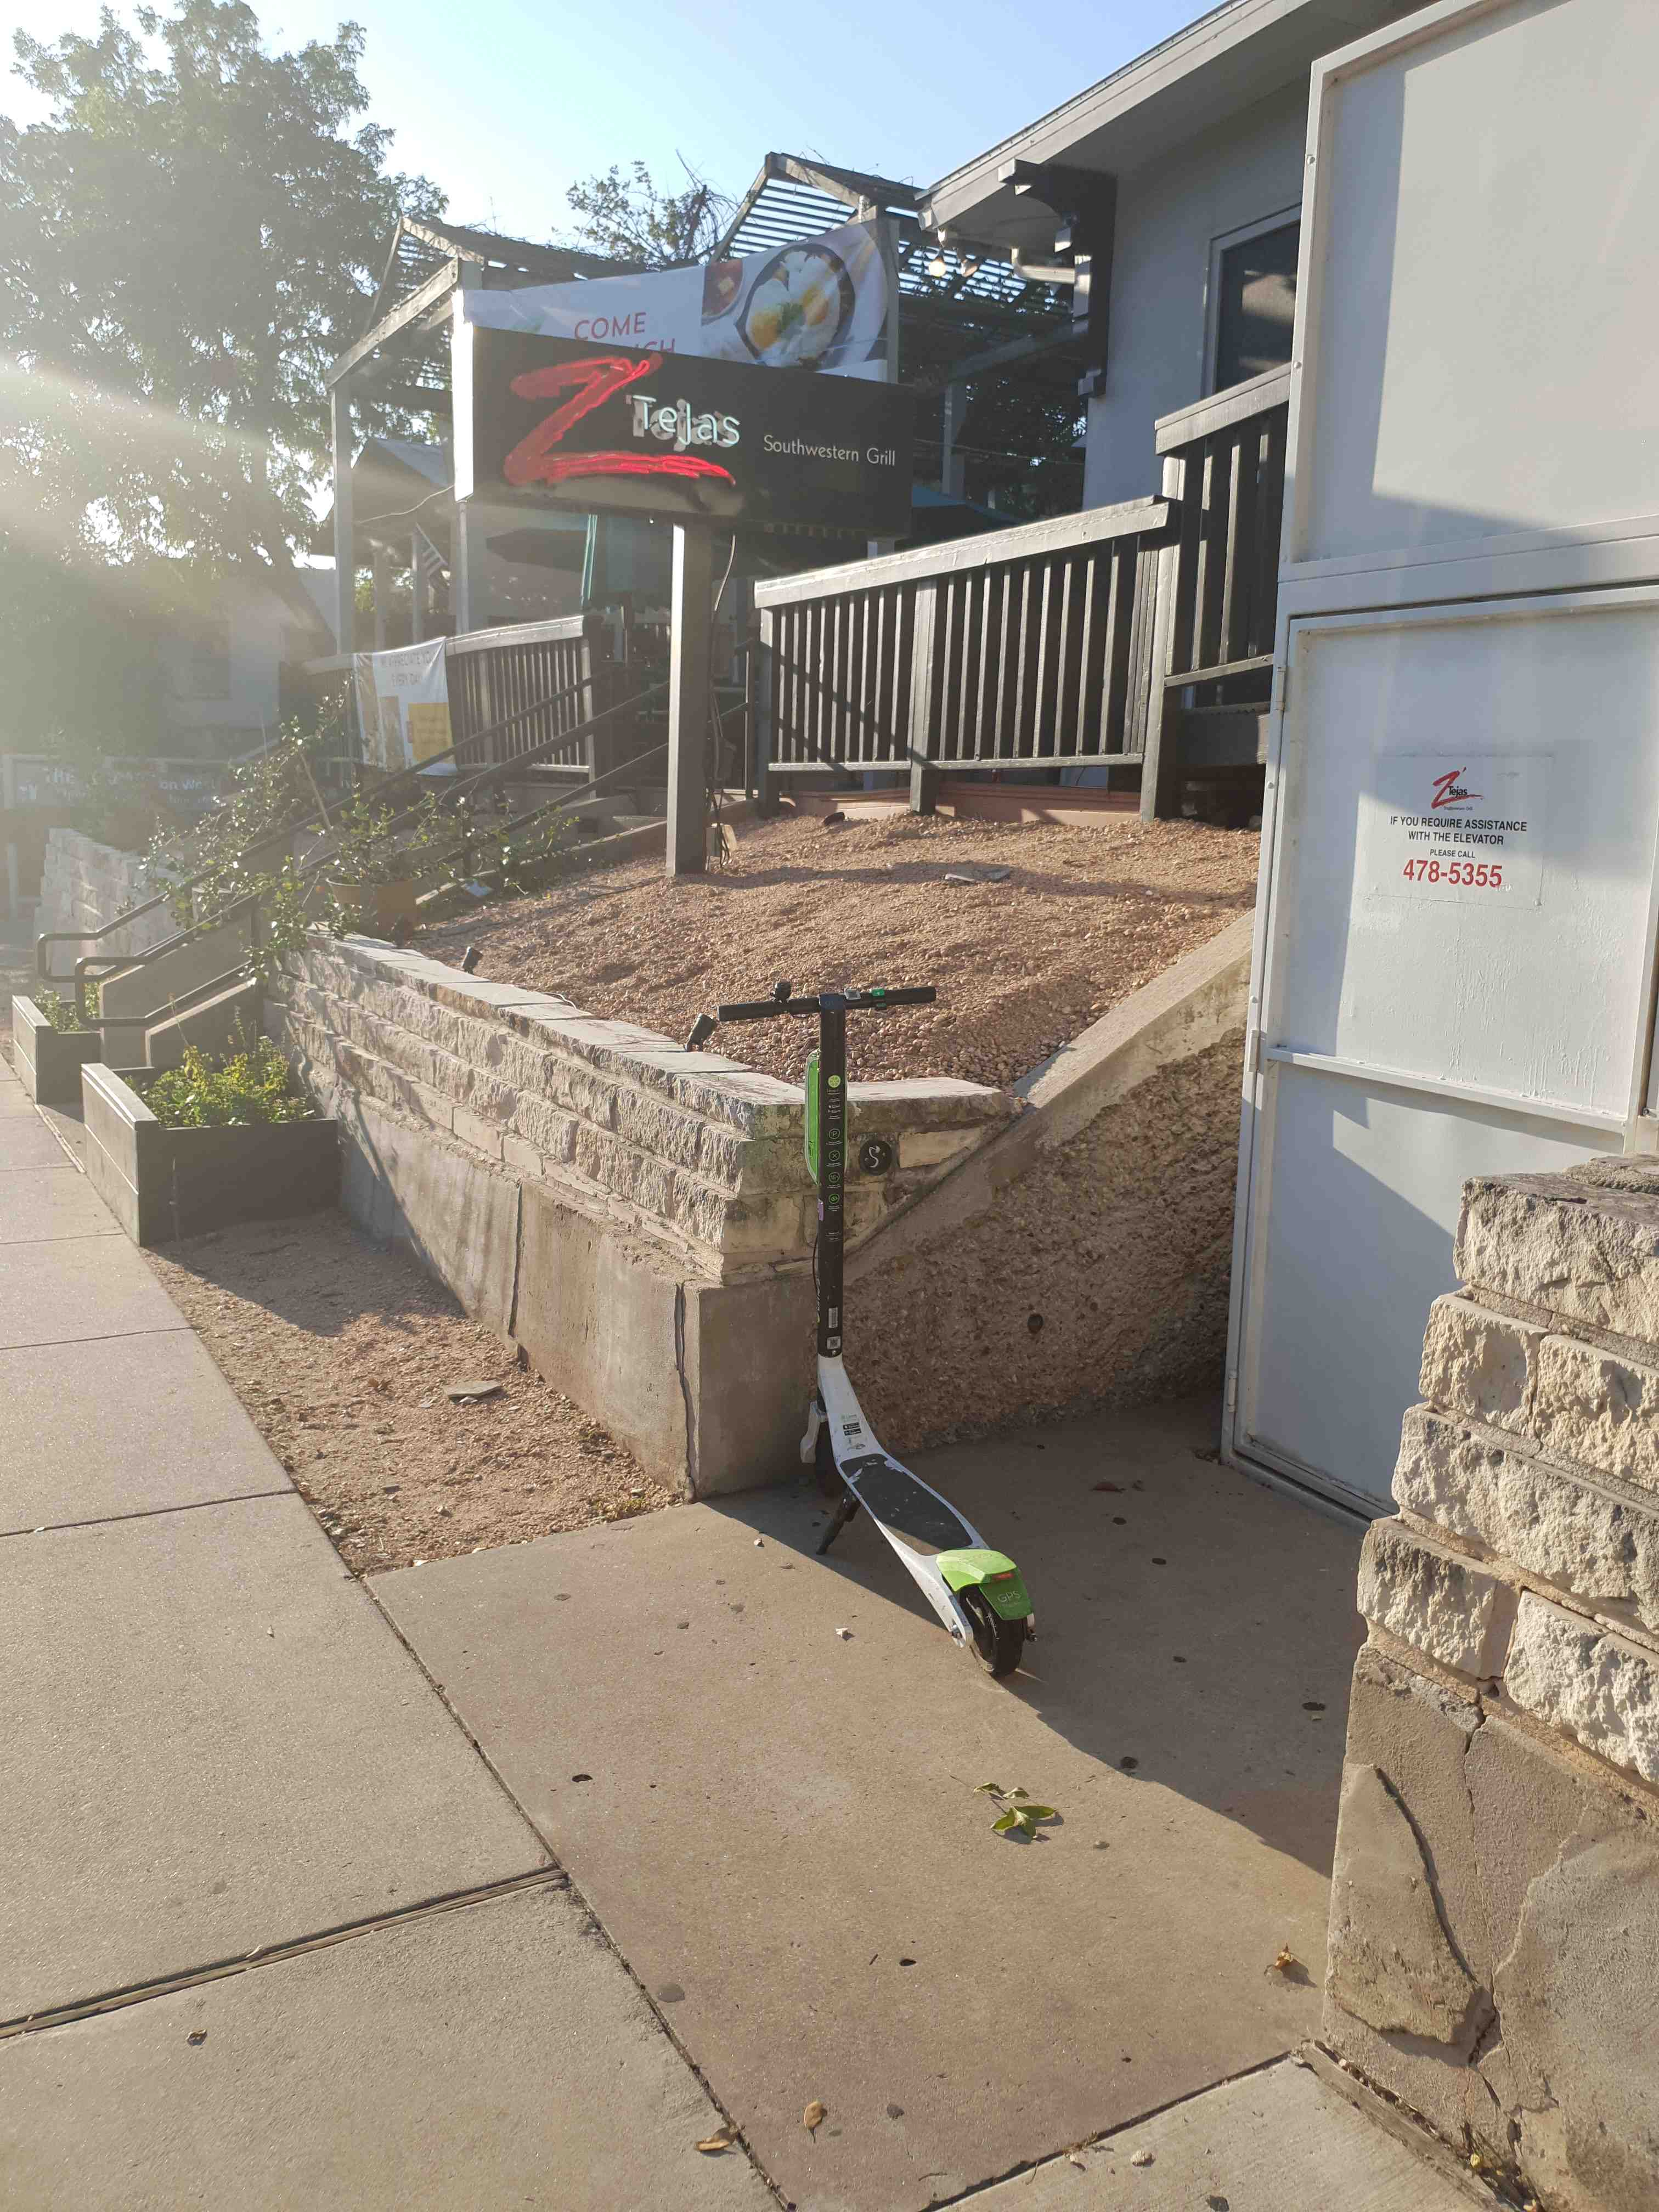scooter: (690, 871, 1044, 1703)
